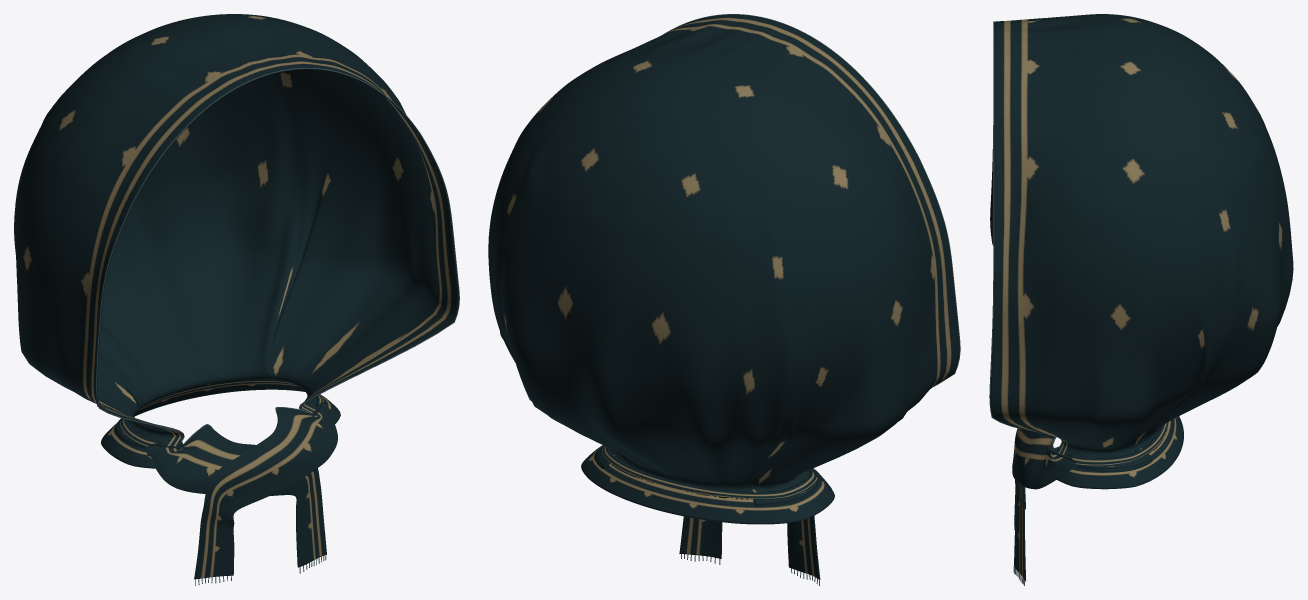
File: Masculine-buttonup-pashmina238-headgear.glb
3 views of the same model, side by side, from view 1: azimuth 30°, elevation 25°; view 2: azimuth 150°, elevation 25°; view 3: azimuth 270°, elevation 25° (orthographic). The views are drawn at different scales.
Visible parts, largest first — view 1: 226 headgear / Headwear / continuous woven pashmina238, 226 headgear / Headwear / face edge238; view 2: 226 headgear / Headwear / continuous woven pashmina238, 226 headgear / Headwear / face edge238; view 3: 226 headgear / Headwear / continuous woven pashmina238, 226 headgear / Headwear / face edge238.
Part boxes in pixels (left/top/right/bottom): 226 headgear / Headwear / continuous woven pashmina238: left=14, top=14, right=458, bottom=579; 226 headgear / Headwear / face edge238: left=96, top=68, right=459, bottom=445; 226 headgear / Headwear / continuous woven pashmina238: left=488, top=14, right=959, bottom=579; 226 headgear / Headwear / face edge238: left=663, top=14, right=960, bottom=387; 226 headgear / Headwear / continuous woven pashmina238: left=990, top=14, right=1293, bottom=581; 226 headgear / Headwear / face edge238: left=989, top=21, right=1062, bottom=448.
Size of the model in its own units: 1.03 by 1.35 by 0.7127.
3 materials, 1 textured.
